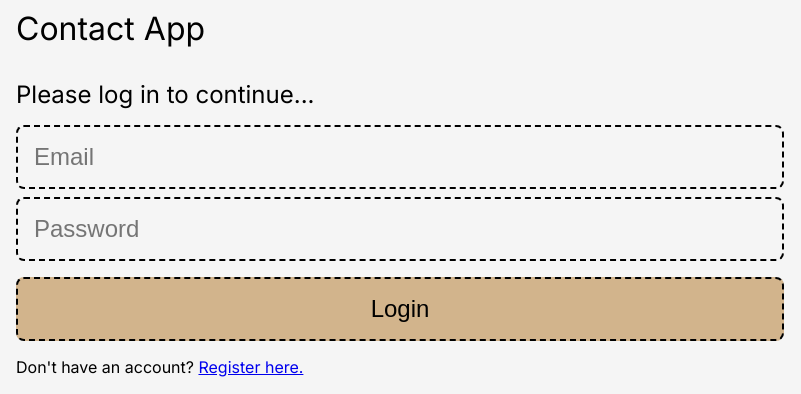
Test: Login spec › should display home page when username and password are correct
The width and height of the screenshot is (801, 394).
In the field with placeholder "Email": (400, 157) 16,125 -> 784,189, type "john.doe@gmail.com"
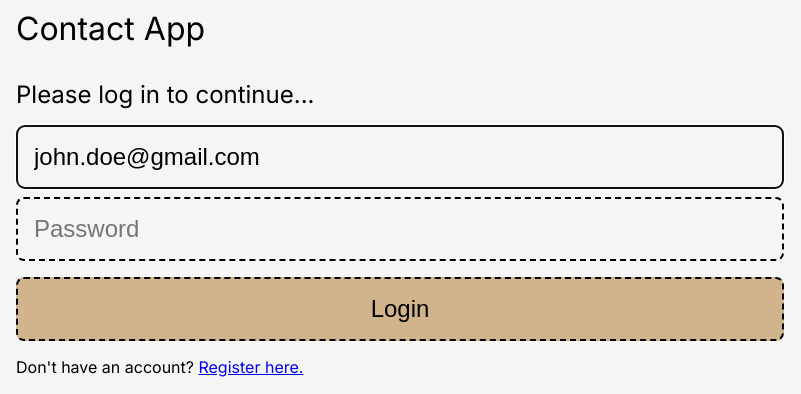
In the password field with placeholder "Password": (400, 229) 16,197 -> 784,261, type "password"
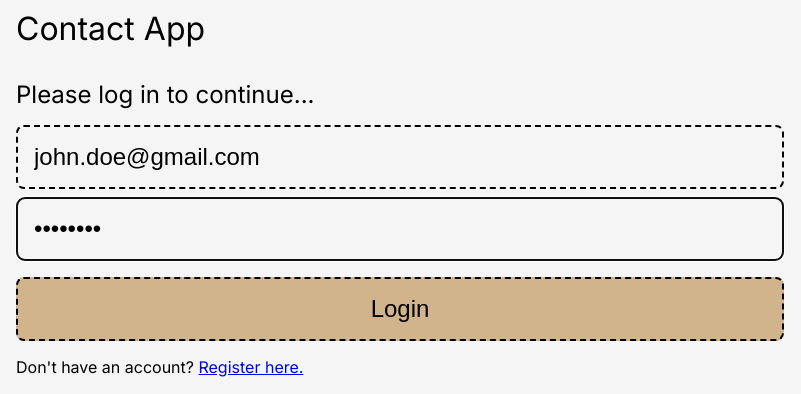
Click the button "Login": (400, 309) 16,277 -> 784,341
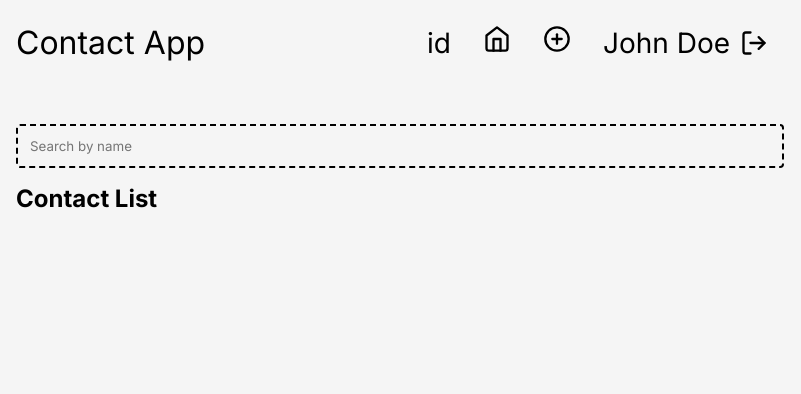
Now the button "John Doe" is shown, box 603,26 -> 768,60
